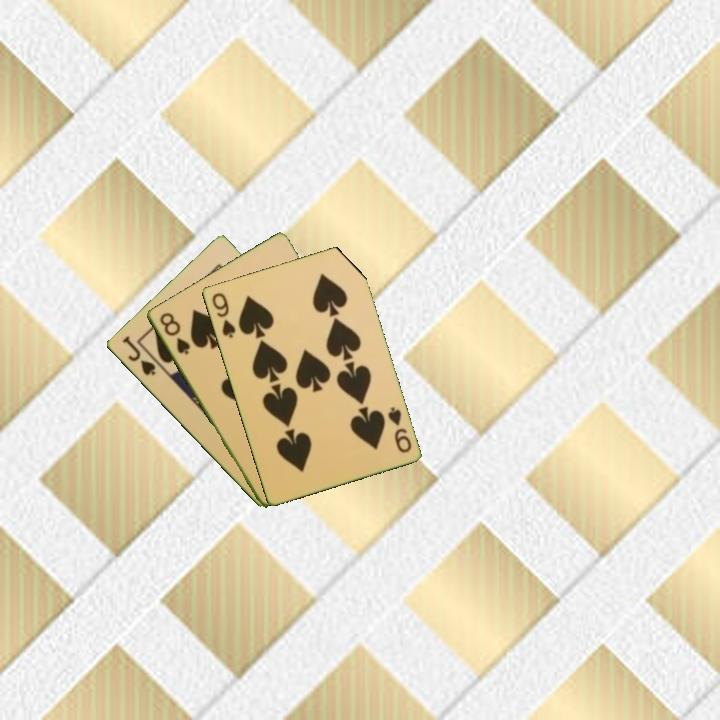8s: (156, 309, 193, 358)
9s: (384, 403, 414, 456), (208, 289, 238, 341)
Js: (118, 332, 158, 378)
